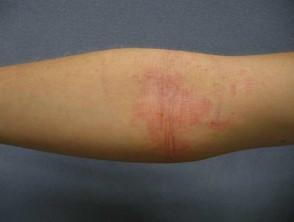Eczema: (139, 110, 181, 128), (155, 132, 186, 156), (142, 92, 179, 106), (141, 72, 176, 84), (208, 118, 232, 134), (228, 82, 241, 98), (184, 93, 194, 107), (187, 112, 198, 124), (200, 99, 210, 111), (237, 68, 244, 76)
